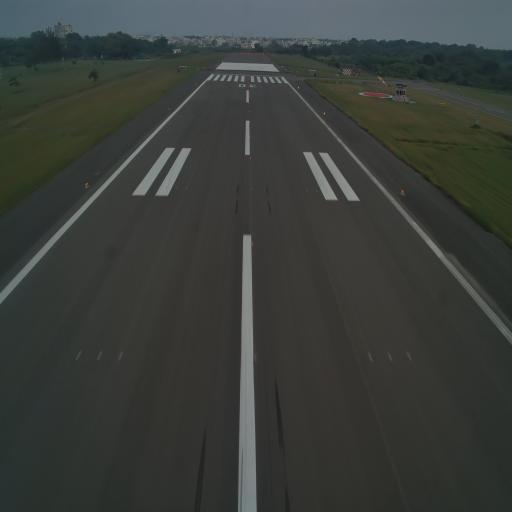off: (116, 346, 125, 362), (366, 348, 374, 366), (404, 349, 414, 363), (95, 347, 103, 364), (385, 350, 394, 364), (74, 348, 82, 361), (314, 186, 319, 196), (304, 186, 309, 194), (185, 185, 189, 193), (175, 183, 178, 191), (250, 186, 253, 192)
on: (400, 188, 406, 198), (84, 180, 88, 190), (251, 240, 255, 247)
